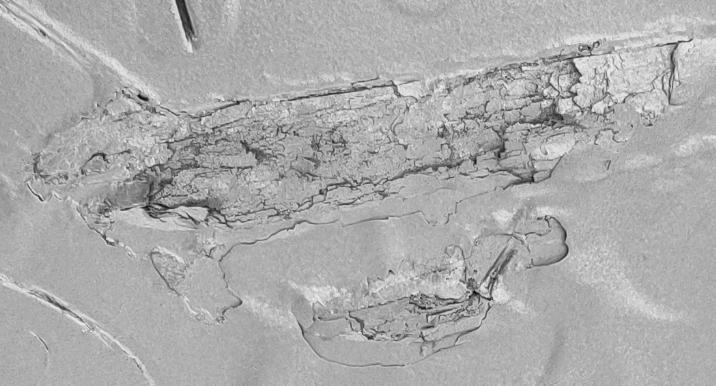paint-off: (0, 1, 716, 386)
